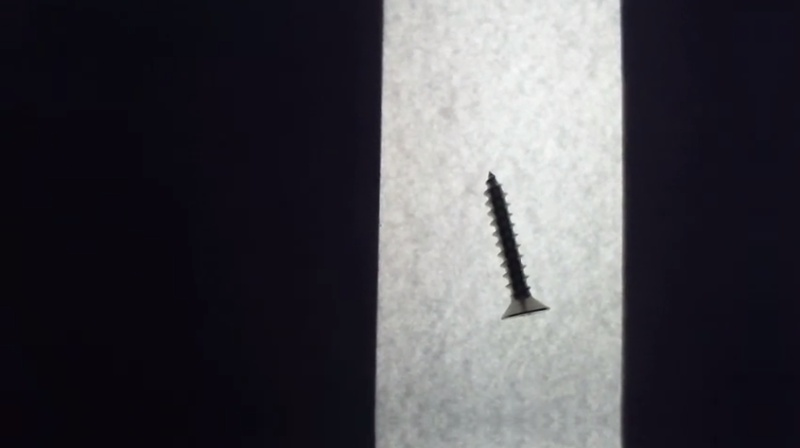S001: (482, 168, 553, 324)
